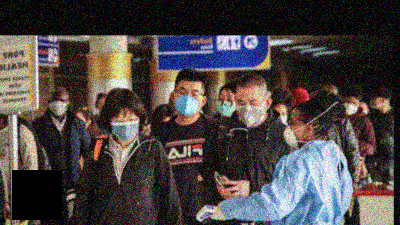with_mask: (172, 85, 201, 118), (235, 97, 265, 127), (109, 113, 139, 143), (282, 116, 304, 146), (215, 93, 235, 117), (47, 96, 66, 116), (342, 99, 358, 115)
